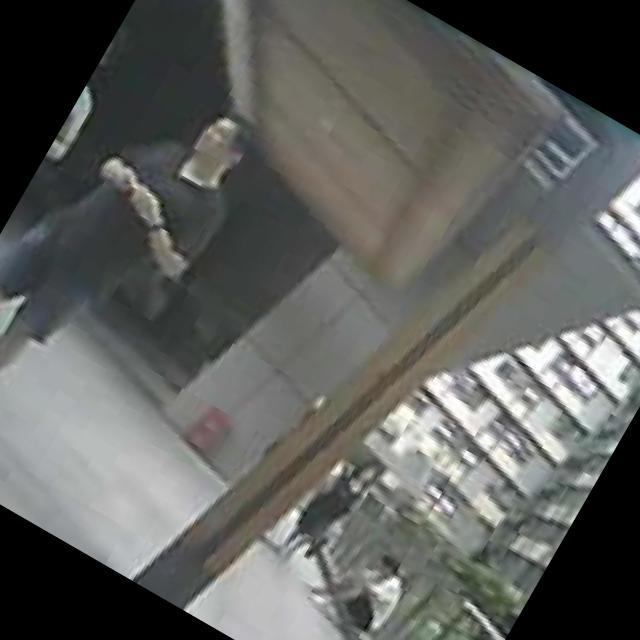person: (0, 47, 271, 493), (272, 438, 383, 580), (41, 27, 145, 178), (304, 530, 415, 640)
